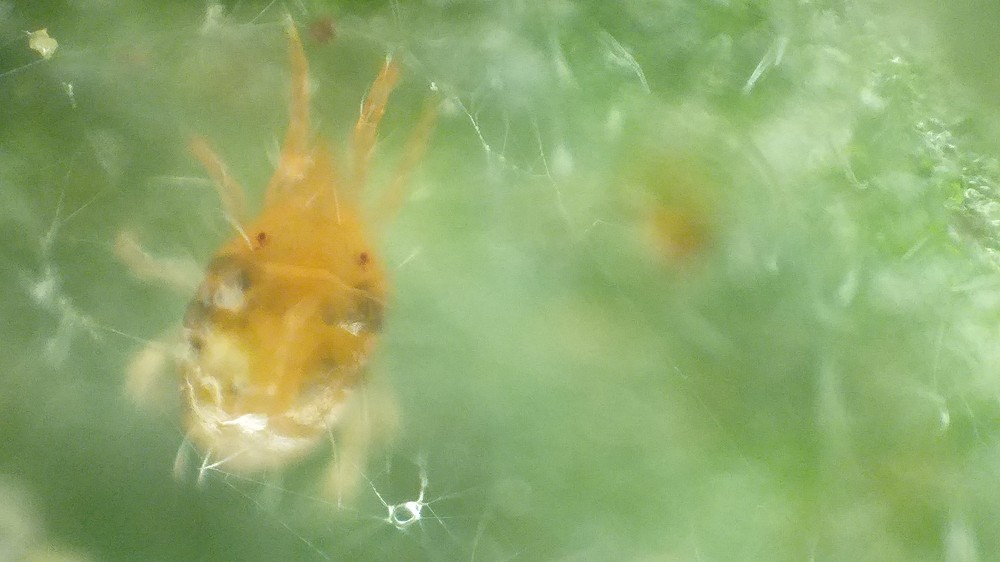Aracnido Rojo: (134, 33, 505, 523)
